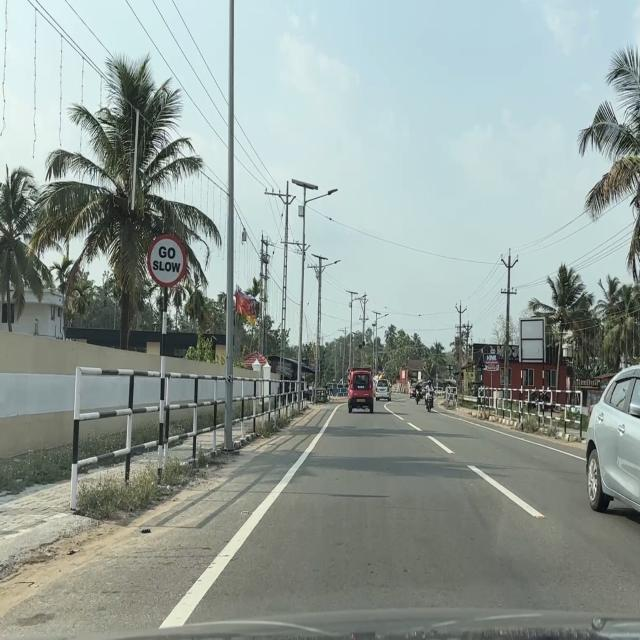GO_SLOW: (146, 233, 188, 288)
